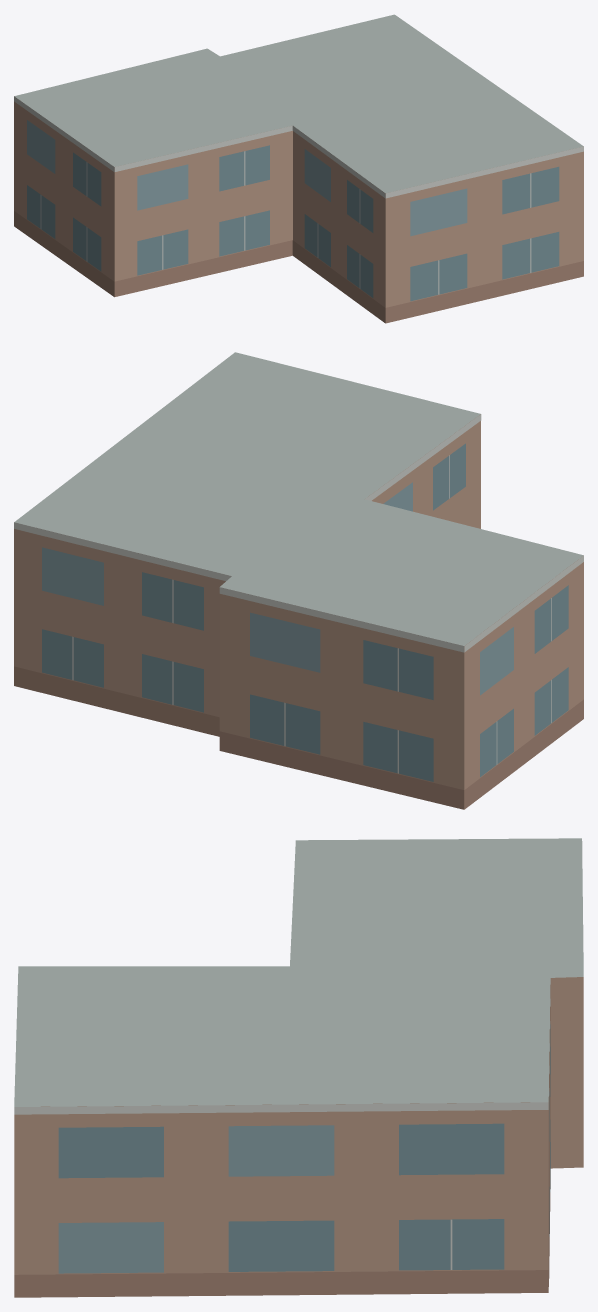
The model's file is survey-upis-32822014.glb.
3 renders of one model, top to bottom at view 1: azimuth 30°, elevation 25°; view 2: azimuth 150°, elevation 25°; view 3: azimuth 270°, elevation 25°, orthographic. The views are drawn at different scales.
Parts seen in each view (by area): view 1: survey-upis-32822014.tmp; view 2: survey-upis-32822014.tmp; view 3: survey-upis-32822014.tmp.
Part boxes in pixels (box(x1,y1,x2,y2)): survey-upis-32822014.tmp: box(14, 14, 583, 323); survey-upis-32822014.tmp: box(14, 352, 583, 809); survey-upis-32822014.tmp: box(14, 838, 583, 1297).
Bounding box in the file's own units: 18.46 × 6.1 × 16.53.
